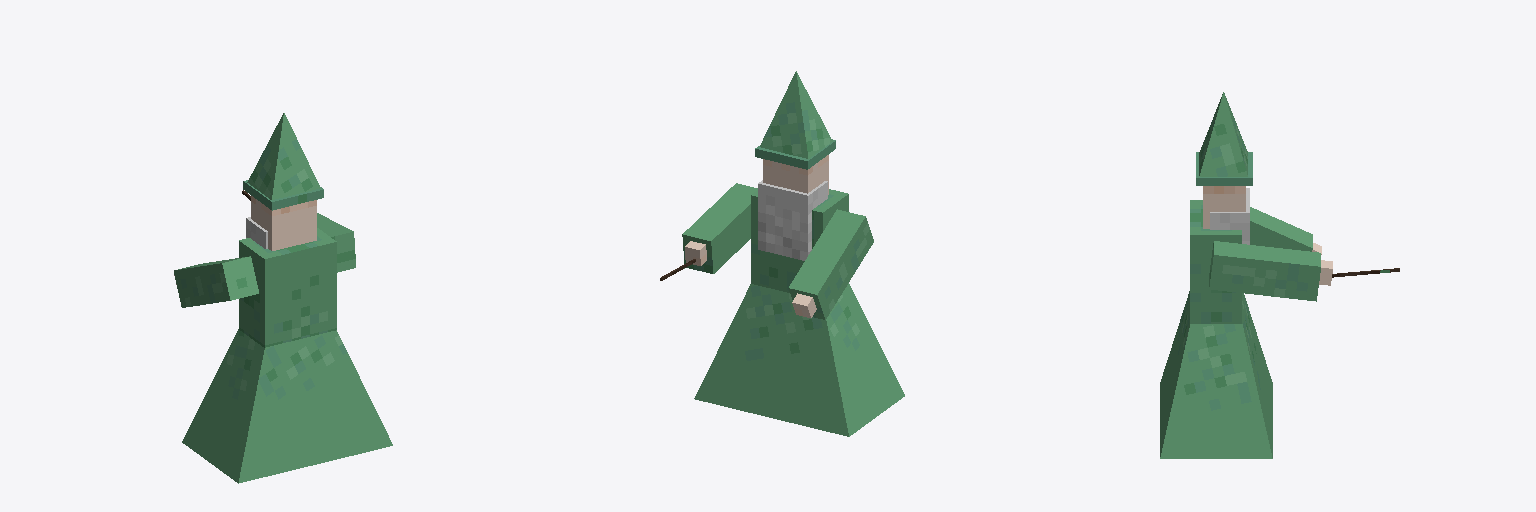
The picture shows the model from 3 angles: view 1: azimuth 30°, elevation 25°; view 2: azimuth 150°, elevation 25°; view 3: azimuth 270°, elevation 25°; orthographic projection.
Parts seen in each view (by area): view 1: pyramid, cube; view 2: pyramid, cube; view 3: pyramid, cube.
Boxes of the visible parts, x1,y1,x2,y2 form: pyramid: [182, 113, 392, 483]; cube: [174, 180, 355, 347]; pyramid: [694, 71, 904, 436]; cube: [660, 139, 873, 319]; pyramid: [1160, 92, 1272, 458]; cube: [1190, 152, 1399, 323].
Size of the model in its own units: 1.07 by 2.18 by 1.44.
Materials: 1 (1 with a texture image).